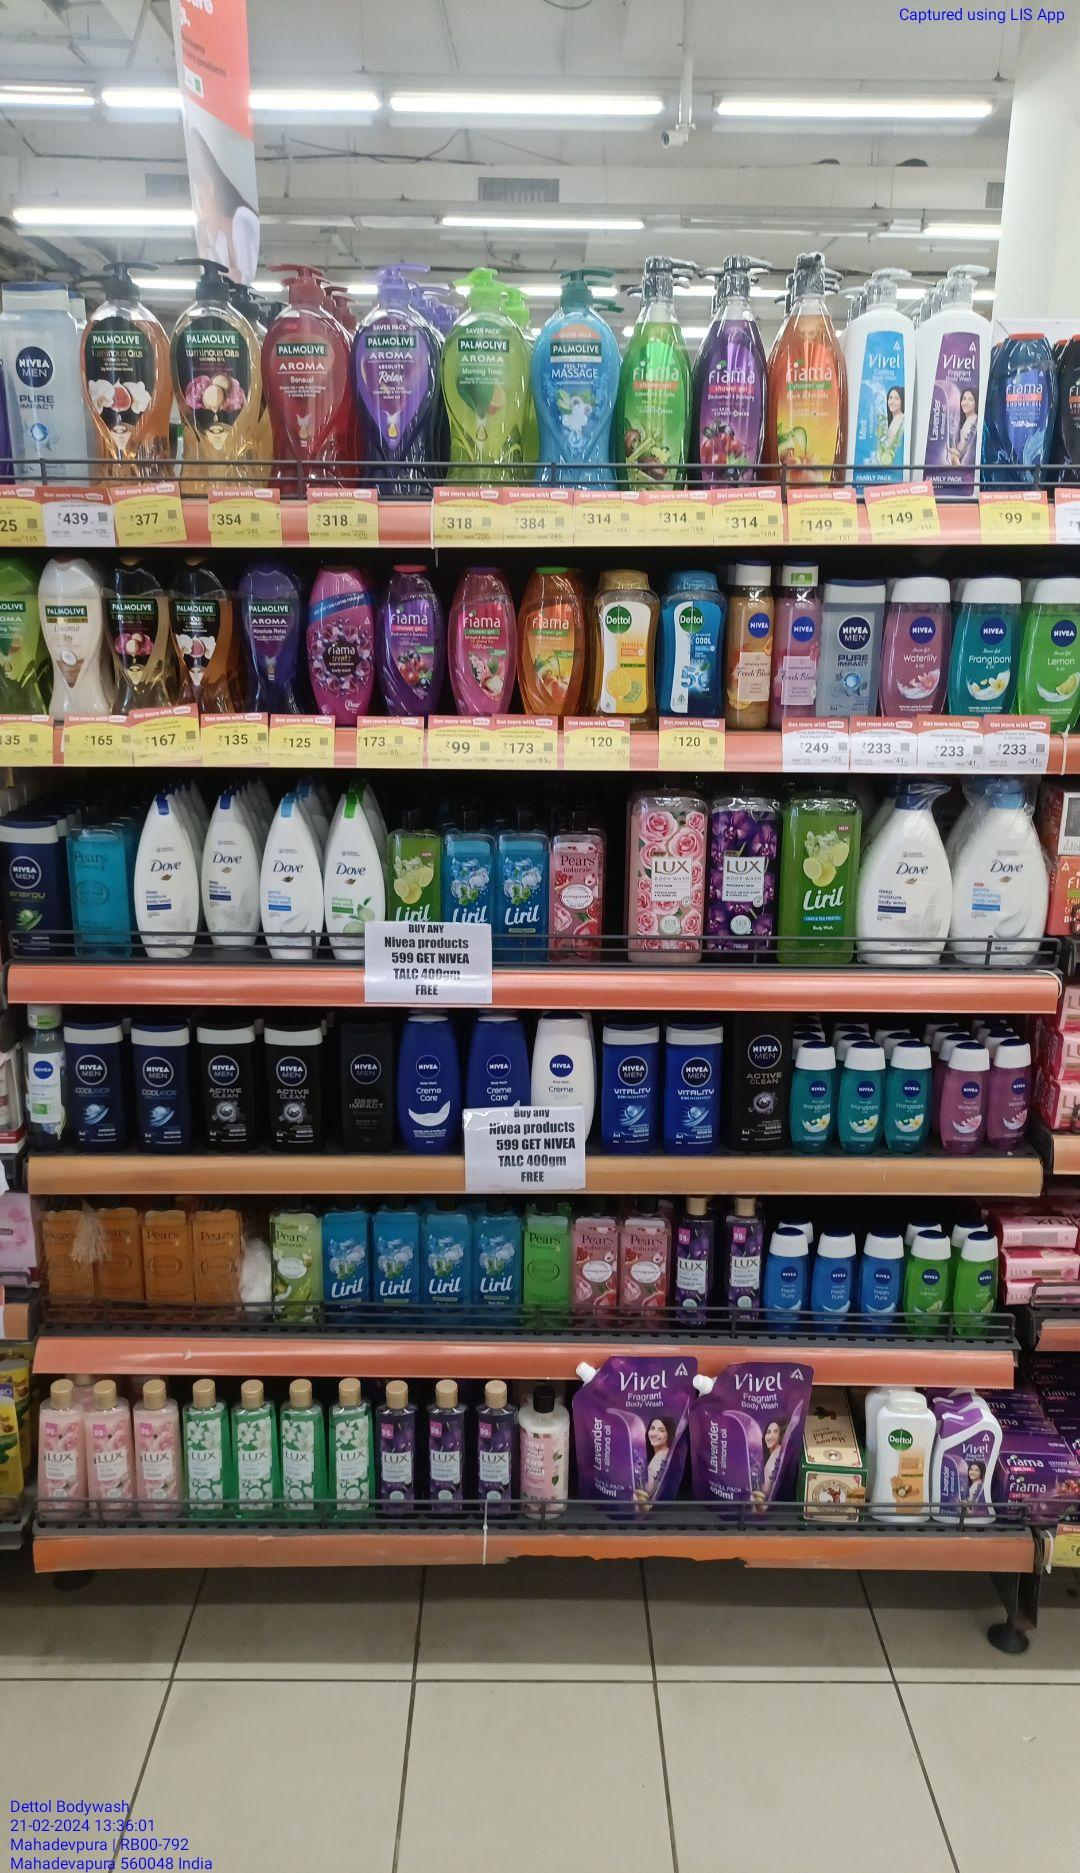Dettol_Bodywash_Cool: (658, 567, 728, 717)
Dettol_Bodywash_Refresh: (590, 565, 660, 720)
Dettol_Nourish_Body_Wash_250ML: (868, 1389, 937, 1524)
Dove_Deep_Moisture_Body_Wash_250ML: (132, 799, 201, 958), (201, 792, 260, 949)
Dove_Gentle_Exfoliating_Body_Wash_250ML: (261, 796, 324, 961)
Dove_Refreshing_Body_Wash_250ML: (324, 800, 386, 961)
Fiama_Shower_Gel_Patchouli_and_Macadamia_250ML: (446, 563, 516, 711)
Fiama_Shower_Gel_Peach_and_Avocado_250ML: (517, 563, 586, 717)
Liril_Cooling_Mint_Body_Wash_250ML: (495, 803, 549, 965), (320, 1194, 372, 1334), (420, 1194, 472, 1333), (472, 1194, 521, 1337), (441, 803, 498, 922), (373, 1194, 420, 1334)
Liril_Lime_and_Tea_Tree_Oil_Body_Wash_250ML: (386, 805, 441, 922)
Lux_Black_Orchid_Scent_and_Juniper_Oil_Body_Wash_245ML: (469, 1378, 518, 1519), (373, 1376, 419, 1523), (423, 1378, 468, 1521), (671, 1194, 715, 1329), (720, 1194, 762, 1331)
Lux_Body_Wash_Skin_Detox_Freesia_Scent_and_Alove_Vera_245ML: (229, 1375, 278, 1527), (278, 1376, 327, 1521), (180, 1378, 228, 1524), (327, 1376, 374, 1521)
Nivea_Creme_Care_Body_Wash_250ML: (395, 1011, 463, 1154), (465, 1011, 531, 1108)
Nivea_Creme_Soft_Body_Wash_250ML: (530, 1011, 597, 1106)
Nivea_Shower_Gel_Frangipani_and_Oil_250ML: (950, 574, 1022, 714), (886, 1041, 935, 1154), (786, 1039, 836, 1147), (837, 1042, 885, 1153)
Nivea_Shower_Gel_Lemon_and_Oil_250ML: (1021, 574, 1080, 715), (953, 1229, 1000, 1339), (904, 1229, 951, 1338)
Nivea_Shower_Gel_Waterlily_and_Oil_250ML: (881, 575, 949, 715), (939, 1043, 989, 1153), (990, 1038, 1031, 1153)
Palmolive_Aroma_Relax_250ML: (234, 563, 300, 714)
Palmolive_Coconut_Joy_Exfoliating_Body_Wash_250ML: (37, 552, 102, 714)
Palmolive_Luminous_Oils_Invigorating_Macadamia_Oil_With_Peony_250ML: (100, 554, 168, 710)
Palmolive_Luminous_Oils_With_White_Orchid_Shower_Gel_250ML: (168, 556, 233, 711)
Pears_Naturale_Aloe_Vera_Body_Wash_250ML: (269, 1196, 320, 1331)
Pears_Pure_Glycerin_and_Lemon_Flower_Extracts_Body_Wash_250ML: (521, 1194, 572, 1335)
Pears_Pure_Glycerin_and_Mint_Extracts_Body_Wash_250ML: (63, 800, 131, 961)
